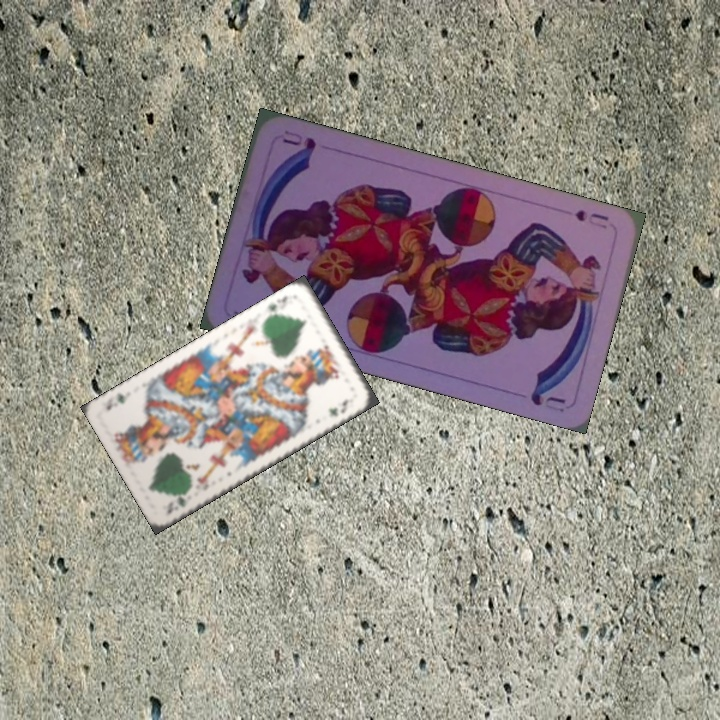GK: (260, 291, 295, 320), (163, 486, 193, 516)
SU: (570, 205, 611, 224)
